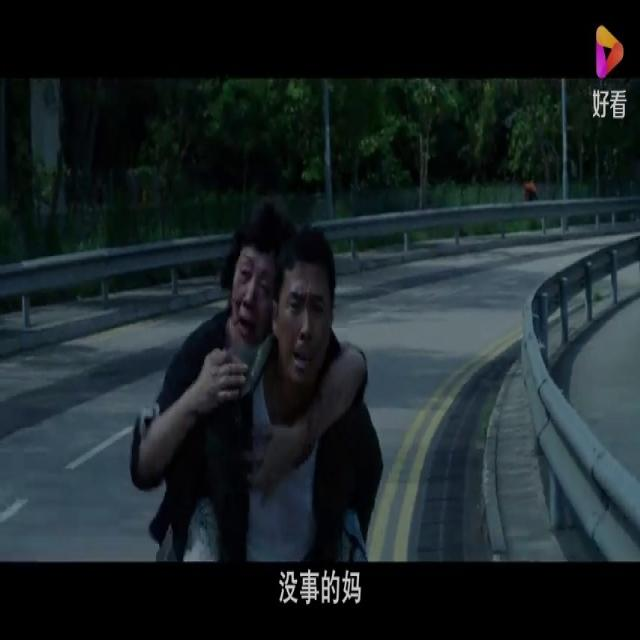fight: (119, 198, 406, 562)
